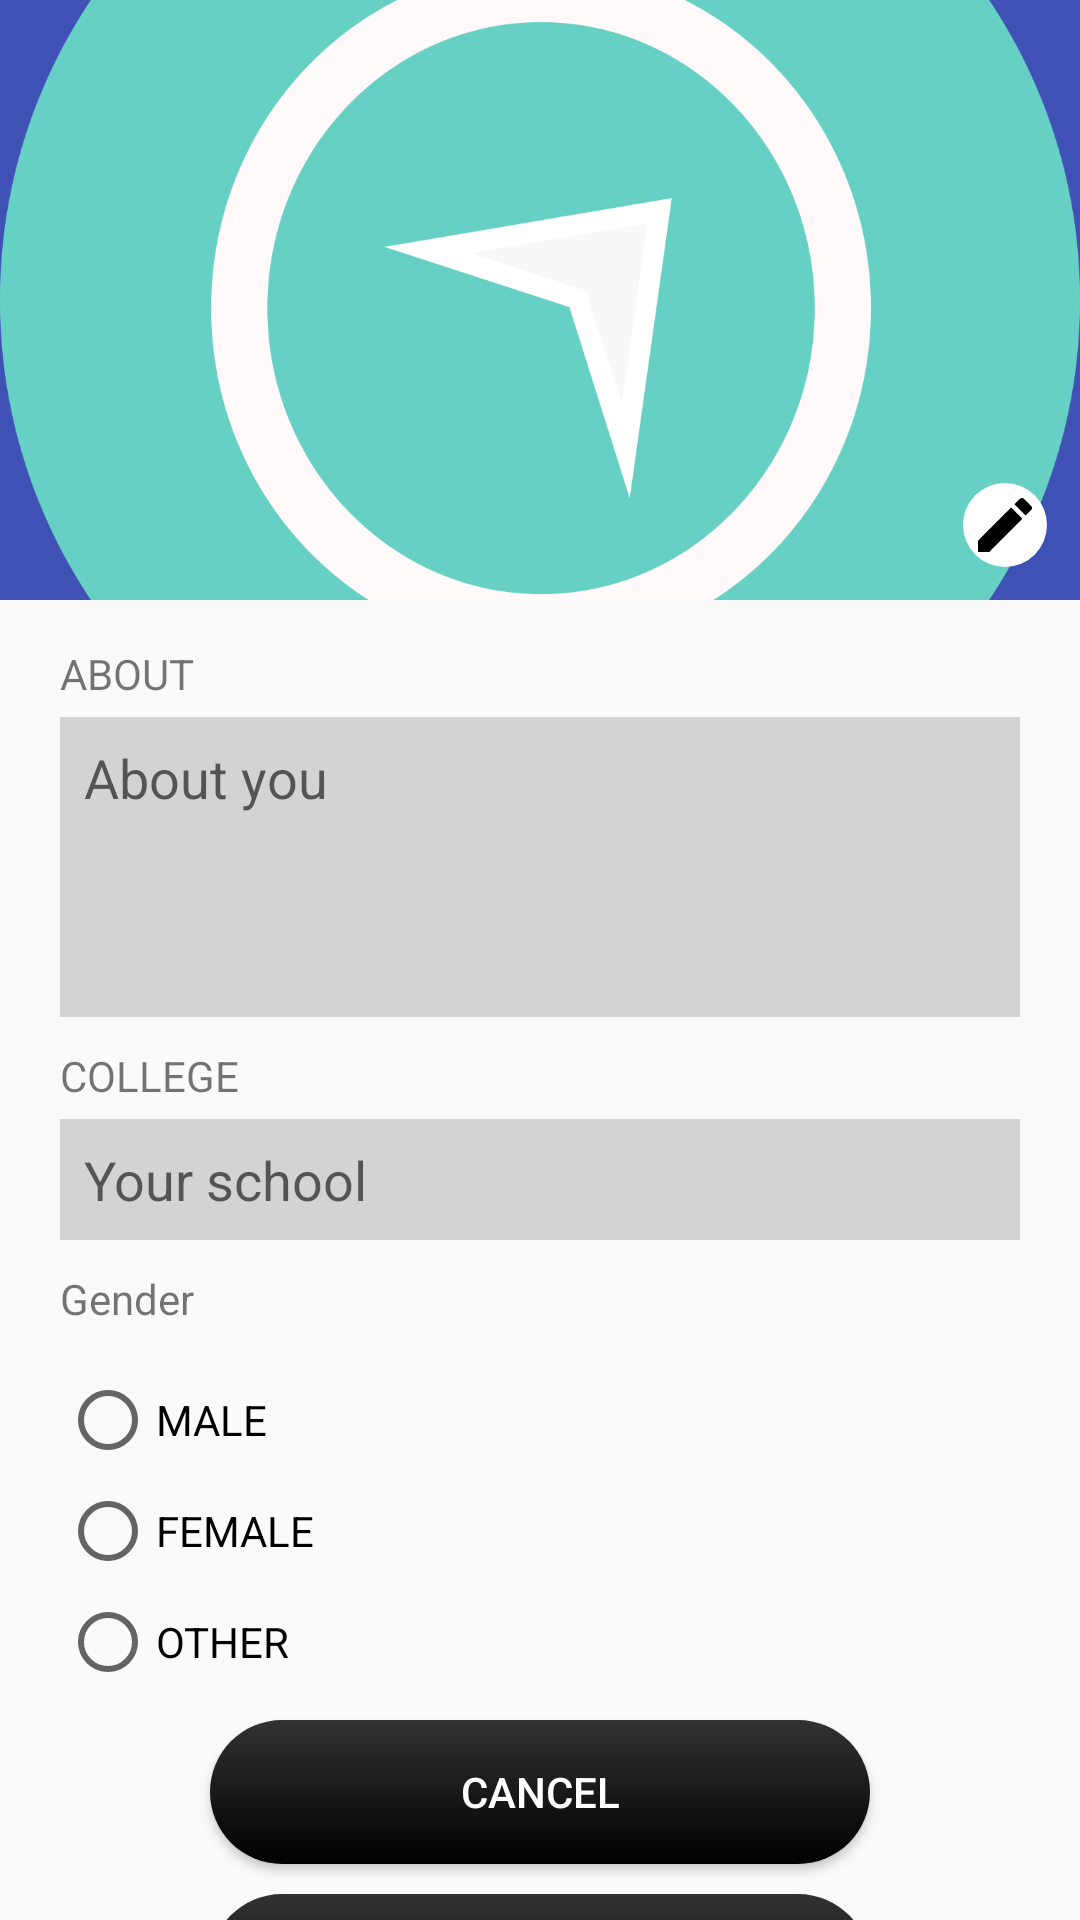

Where icons sit on this 1080w x 1920h app screen, as (x1, y1, x2, y2):
mode edit: (963, 450, 1080, 600)
